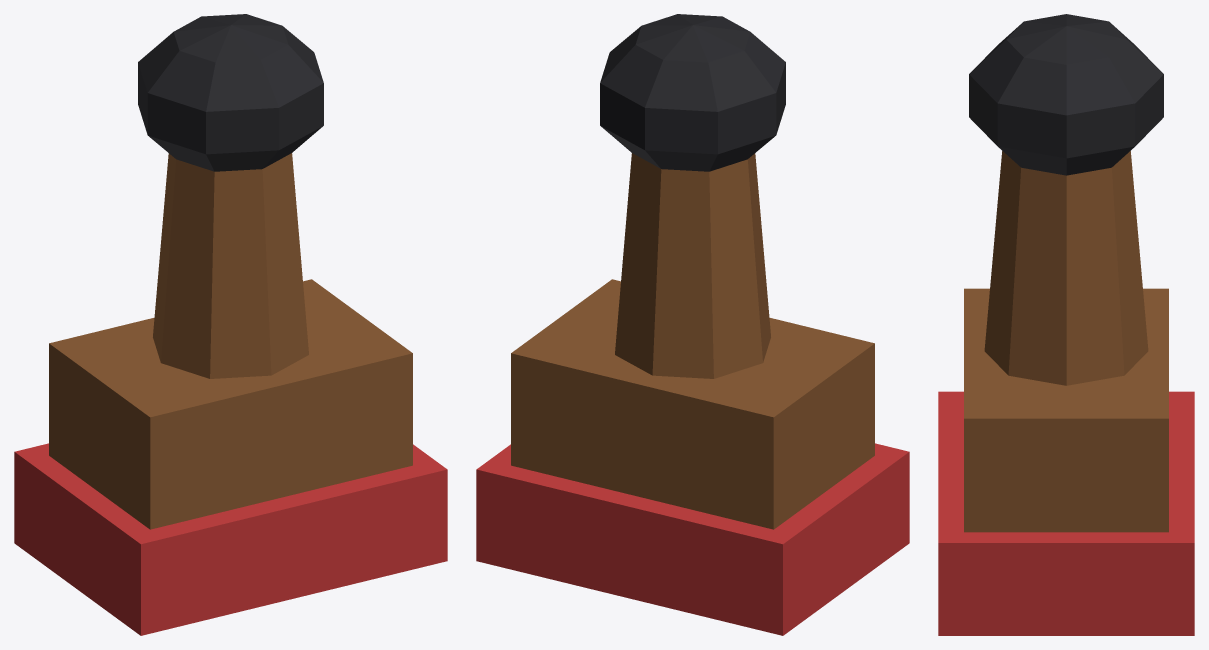
File: fake_stamp.glb
3 renders of one model, left to right at view 1: azimuth 30°, elevation 25°; view 2: azimuth 150°, elevation 25°; view 3: azimuth 270°, elevation 25°, orthographic.
Parts seen in each view (by area): view 1: block_stamp_wood, base_stamp_rubber, handle_stamp_wood, knob_stamp_knob; view 2: block_stamp_wood, base_stamp_rubber, handle_stamp_wood, knob_stamp_knob; view 3: block_stamp_wood, base_stamp_rubber, handle_stamp_wood, knob_stamp_knob.
Part boxes in pixels (x1=…): block_stamp_wood: x1=49, y1=279, x2=412, y2=529; base_stamp_rubber: x1=14, y1=443, x2=447, y2=635; handle_stamp_wood: x1=153, y1=153, x2=308, y2=378; knob_stamp_knob: x1=138, y1=14, x2=323, y2=171; block_stamp_wood: x1=511, y1=279, x2=874, y2=529; base_stamp_rubber: x1=476, y1=443, x2=909, y2=635; handle_stamp_wood: x1=615, y1=153, x2=770, y2=378; knob_stamp_knob: x1=600, y1=14, x2=785, y2=171; block_stamp_wood: x1=964, y1=288, x2=1168, y2=532; base_stamp_rubber: x1=938, y1=391, x2=1194, y2=635; handle_stamp_wood: x1=984, y1=151, x2=1148, y2=385; knob_stamp_knob: x1=969, y1=14, x2=1163, y2=175.
Size of the model in its own units: 0.07 by 0.115 by 0.05.
